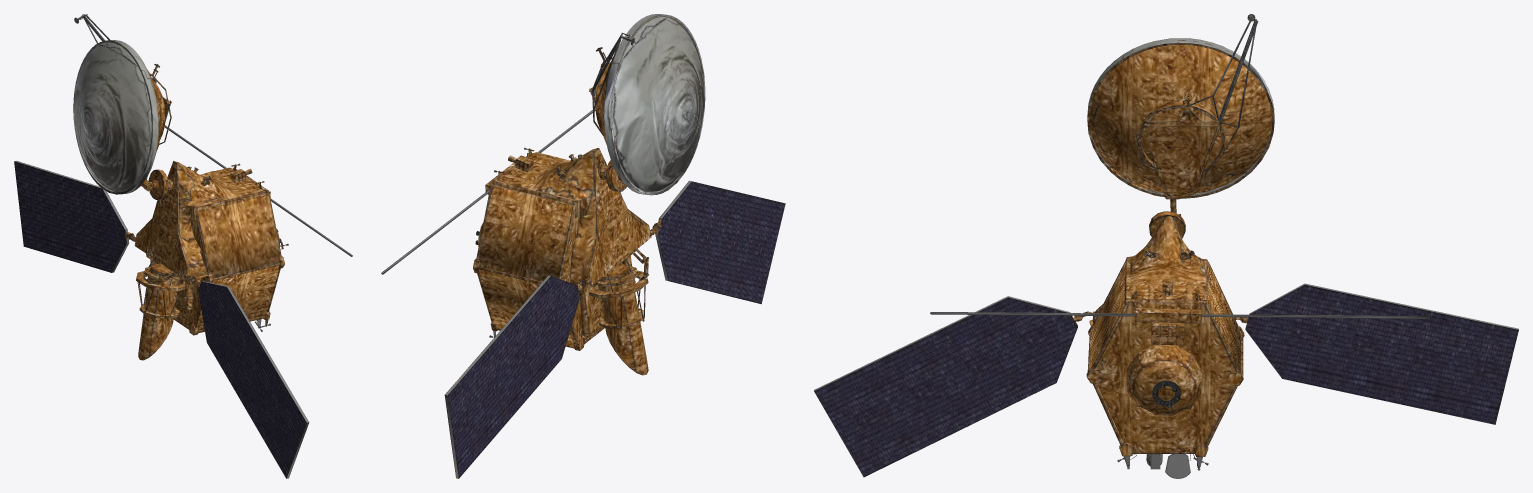
File: mars-reconnaissance-orbiter-mro-a.glb
3 renders of one model, left to right at view 1: azimuth 30°, elevation 25°; view 2: azimuth 150°, elevation 25°; view 3: azimuth 270°, elevation 25°, orthographic. The views are drawn at different scales.
Parts seen in each view (by area): view 1: mro_proxy7, mro_proxy5, mro_proxy3, mro_proxy6, mro_proxy2; view 2: mro_proxy7, mro_proxy5, mro_proxy3, mro_proxy6, mro_proxy2; view 3: mro_proxy7, mro_proxy6, mro_proxy5.
Part boxes in pixels (box(x1,y1,x2,y2)): mro_proxy7: box(14, 14, 352, 478); mro_proxy5: box(134, 161, 213, 335); mro_proxy3: box(129, 173, 193, 360); mro_proxy6: box(230, 163, 284, 328); mro_proxy2: box(137, 259, 181, 320); mro_proxy7: box(381, 14, 785, 478); mro_proxy5: box(477, 148, 660, 350); mro_proxy3: box(581, 160, 658, 375); mro_proxy6: box(473, 147, 534, 337); mro_proxy2: box(601, 249, 648, 330); mro_proxy7: box(814, 14, 1518, 477); mro_proxy6: box(1086, 281, 1243, 470); mro_proxy5: box(1082, 217, 1244, 478).
Bounding box in the file's own units: 32.76 × 61.01 × 89.74.
Materials: 11 (11 with a texture image).
